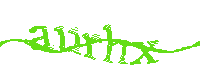a: (28, 25, 55, 53)
h: (103, 24, 127, 67)
r: (80, 30, 102, 60)
u: (54, 24, 82, 58)
x: (131, 39, 160, 66)
